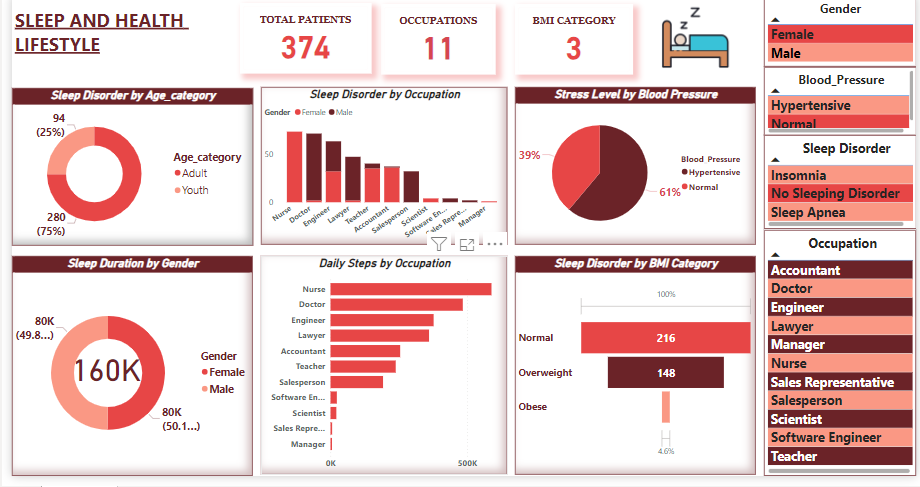

What the dashboard file says about the page in this screenshot:
{"tool":"powerbi","page":{"name":"Page 1","canvas":[1600,850],"ordinal":0},"visuals":[{"type":"textbox","box":[0,14.2,345.1,185.8],"z":0},{"type":"donutChart","title":" Sleep Disorder by Age_category","fields":{"Category":["Sleep_and_Health_Lifestyle_clean_data.Age_category"],"Y":["CountNonNull(Sleep_and_Health_Lifestyle_clean_data.Sleep Disorder)"]},"box":[0,163,426.5,279.1],"z":1000},{"type":"columnChart","title":"Sleep Disorder by Occupation","fields":{"Category":["Sleep_and_Health_Lifestyle_clean_data.Occupation"],"Y":["CountNonNull(Sleep_and_Health_Lifestyle_clean_data.Sleep Disorder)"],"Series":["Sleep_and_Health_Lifestyle_clean_data.Gender"]},"box":[441.5,160.2,435.7,279.4],"z":2000},{"type":"donutChart","title":"Sleep Duration by Gender","fields":{"Category":["Sleep_and_Health_Lifestyle_clean_data.Gender"],"Y":["Sum(Sleep_and_Health_Lifestyle_clean_data.Sleep Duration)"]},"box":[0,461.1,425.9,388.8],"z":3000},{"type":"barChart","title":"Daily Steps by Occupation","fields":{"Y":["Sum(Sleep_and_Health_Lifestyle_clean_data.Daily Steps)"],"Category":["Sleep_and_Health_Lifestyle_clean_data.Occupation"]},"box":[441.5,461.1,435.7,386.8],"z":4000},{"type":"pieChart","title":"Stress Level by Blood Pressure","fields":{"Category":["Sleep_and_Health_Lifestyle_clean_data.Blood_Pressure_Category"],"Y":["Sum(Sleep_and_Health_Lifestyle_clean_data.Stress Level)"]},"box":[890.8,160.2,425.9,279.4],"z":5000},{"type":"funnel","title":"Sleep Disorder by BMI Category","fields":{"Category":["Sleep_and_Health_Lifestyle_clean_data.BMI Category"],"Y":["CountNonNull(Sleep_and_Health_Lifestyle_clean_data.Sleep Disorder)"]},"box":[890.8,461.1,425.9,386.8],"z":6000},{"type":"tableEx","fields":{"Values":["Sleep_and_Health_Lifestyle_clean_data.Gender"]},"box":[1330.4,0,269.6,125],"z":7000},{"type":"tableEx","fields":{"Values":["Sleep_and_Health_Lifestyle_clean_data.Occupation"]},"box":[1331,414.2,269,435.4],"z":8000},{"type":"tableEx","fields":{"Values":["Sleep_and_Health_Lifestyle_clean_data.Sleep Disorder"]},"box":[1330.4,246.2,269.6,166.1],"z":9000},{"type":"cardVisual","fields":{"Data":["Sleep_and_Health_Lifestyle_clean_data.UNIQUE BMI_CATEGORY"]},"box":[890.8,13.7,209,125],"z":10000},{"type":"cardVisual","fields":{"Data":["Sleep_and_Health_Lifestyle_clean_data.UNIQUE OCCUPATIONS"]},"box":[652.5,13.7,203.2,125],"z":11000},{"type":"cardVisual","fields":{"Data":["Sleep_and_Health_Lifestyle_clean_data.TOTAL PATIENTS"]},"box":[403.1,13.2,232.8,124.9],"z":12000},{"type":"tableEx","fields":{"Values":["Sleep_and_Health_Lifestyle_clean_data.Blood_Pressure"]},"box":[1330.4,125,269.6,121.1],"z":13000},{"type":"image","box":[1100,0,217,150],"z":14000},{"type":"card","fields":{"Values":["Sum(Sleep_and_Health_Lifestyle_clean_data.Sleep Duration)"]},"box":[95.7,591.9,142.6,128.9],"z":15000}]}

Visuals, with their boxes in screenshot pixels (x1, y1, x2, y2), scaled from the page's 1600x850 canvas onto the 920x487 screenshot:
textbox: {"left": 0, "top": 8, "right": 198, "bottom": 115}
" Sleep Disorder by Age_category" donutChart: {"left": 0, "top": 93, "right": 245, "bottom": 253}
"Sleep Disorder by Occupation" columnChart: {"left": 254, "top": 92, "right": 504, "bottom": 252}
"Sleep Duration by Gender" donutChart: {"left": 0, "top": 264, "right": 245, "bottom": 486}
"Daily Steps by Occupation" barChart: {"left": 254, "top": 264, "right": 504, "bottom": 486}
"Stress Level by Blood Pressure" pieChart: {"left": 512, "top": 92, "right": 757, "bottom": 252}
"Sleep Disorder by BMI Category" funnel: {"left": 512, "top": 264, "right": 757, "bottom": 486}
tableEx - Sleep_and_Health_Lifestyle_clean_data.Gender: {"left": 765, "top": 0, "right": 919, "bottom": 72}
tableEx - Sleep_and_Health_Lifestyle_clean_data.Occupation: {"left": 765, "top": 237, "right": 919, "bottom": 486}
tableEx - Sleep_and_Health_Lifestyle_clean_data.Sleep Disorder: {"left": 765, "top": 141, "right": 919, "bottom": 236}
cardVisual - Sleep_and_Health_Lifestyle_clean_data.UNIQUE BMI_CATEGORY: {"left": 512, "top": 8, "right": 632, "bottom": 79}
cardVisual - Sleep_and_Health_Lifestyle_clean_data.UNIQUE OCCUPATIONS: {"left": 375, "top": 8, "right": 492, "bottom": 79}
cardVisual - Sleep_and_Health_Lifestyle_clean_data.TOTAL PATIENTS: {"left": 232, "top": 8, "right": 366, "bottom": 79}
tableEx - Sleep_and_Health_Lifestyle_clean_data.Blood_Pressure: {"left": 765, "top": 72, "right": 919, "bottom": 141}
image: {"left": 632, "top": 0, "right": 757, "bottom": 86}
card - Sum(Sleep_and_Health_Lifestyle_clean_data.Sleep Duration): {"left": 55, "top": 339, "right": 137, "bottom": 413}
